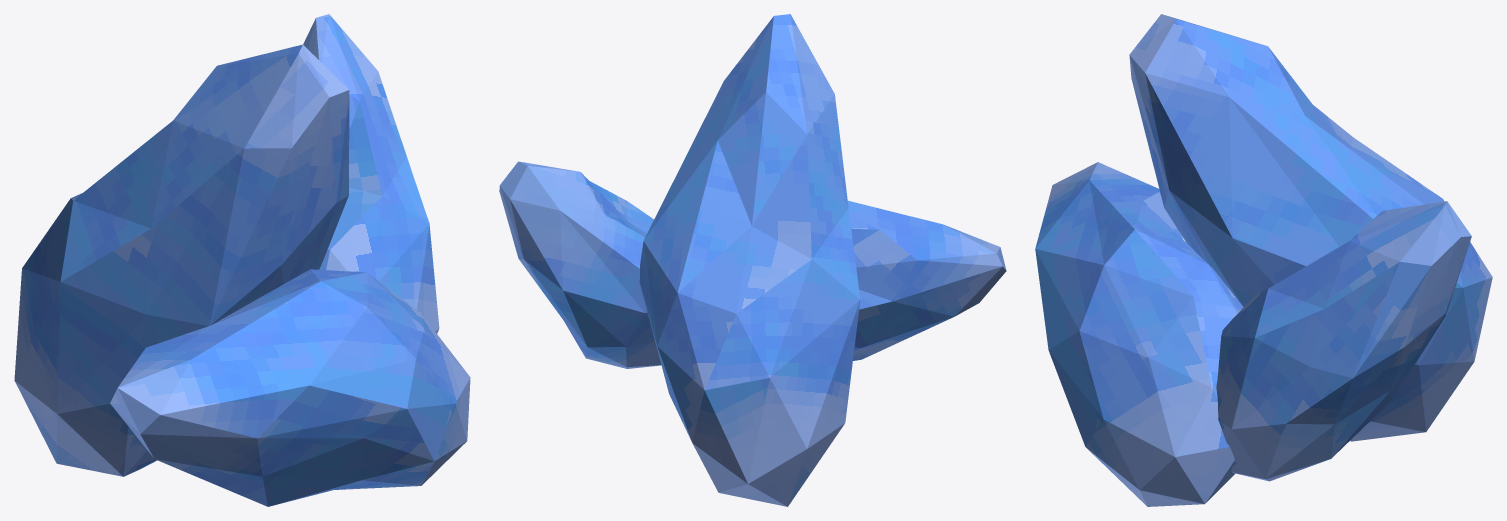
Rendered from Cobalt.fbx.
3 renders of one model, left to right at view 1: azimuth 30°, elevation 25°; view 2: azimuth 150°, elevation 25°; view 3: azimuth 270°, elevation 25°, orthographic. The views are drawn at different scales.
Visible parts, largest first — view 1: Cobalt; view 2: Cobalt; view 3: Cobalt.
Boxes of the visible parts, left/top/right/bottom form: Cobalt: left=14, top=14, right=470, bottom=506; Cobalt: left=499, top=14, right=1006, bottom=506; Cobalt: left=1035, top=14, right=1492, bottom=506.
Size of the model in its own units: 3.4 by 3.16 by 3.48.
